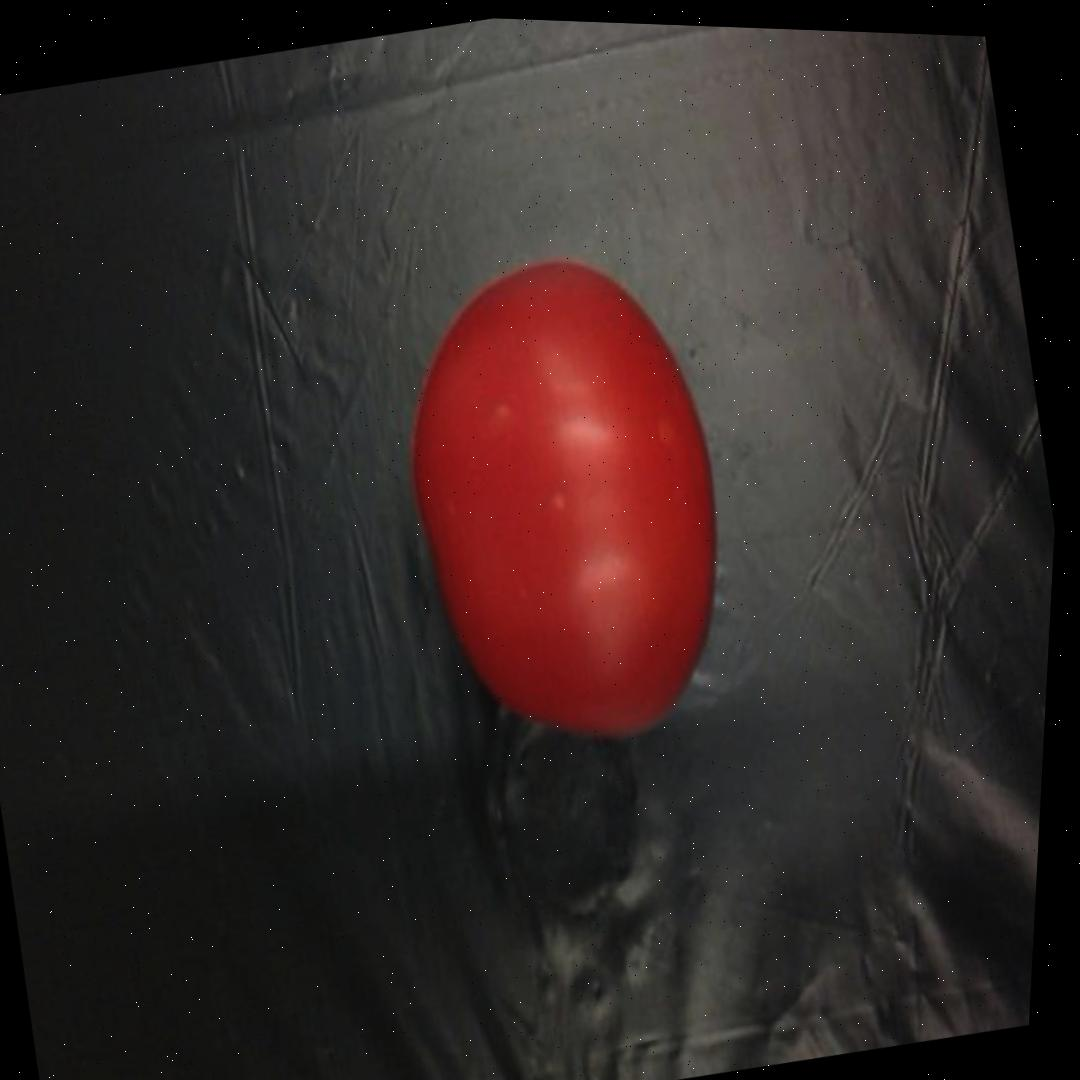matang: (363, 232, 773, 780)
